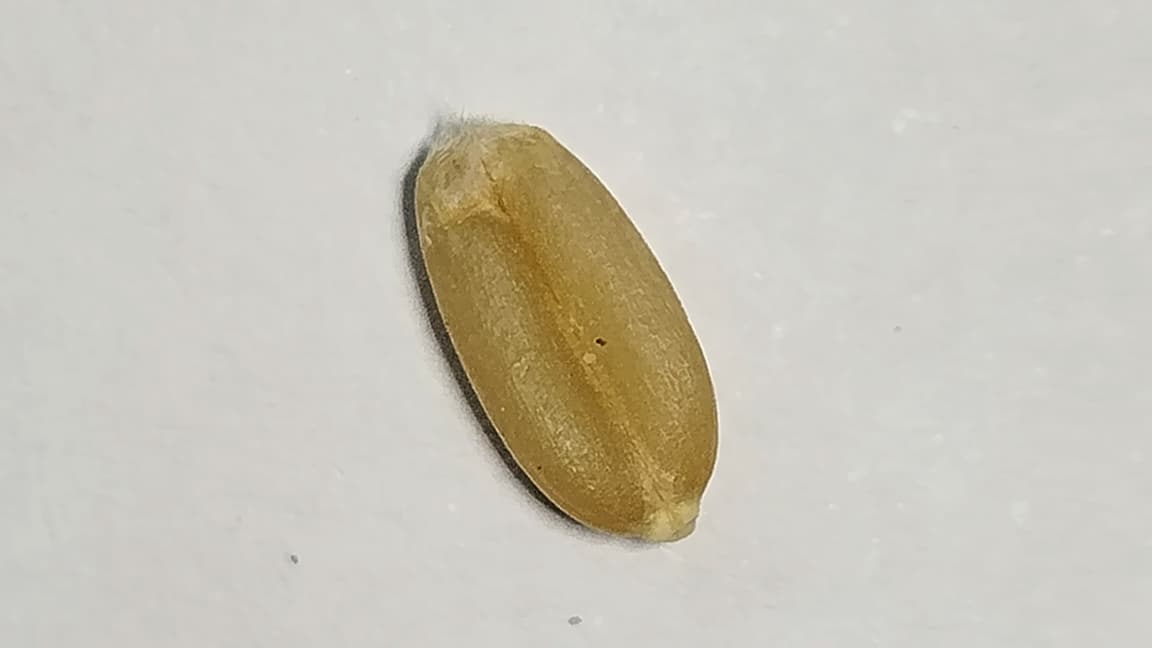healthy: (411, 117, 717, 541)
